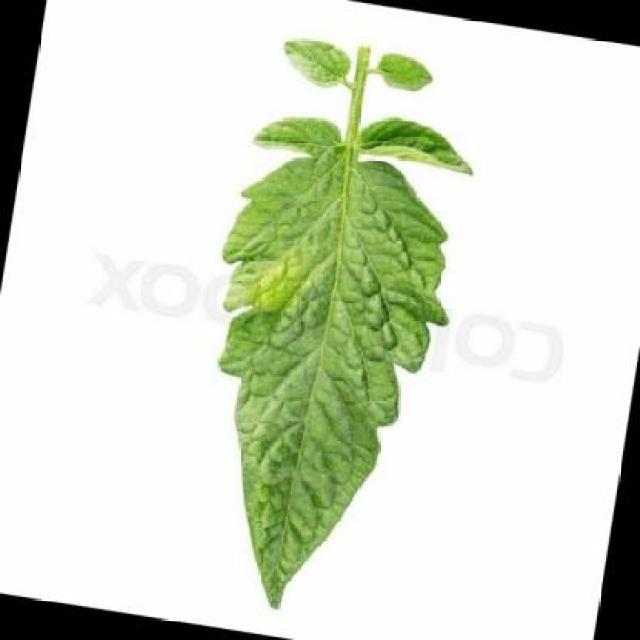Healthy Leaf: (176, 20, 487, 640)
